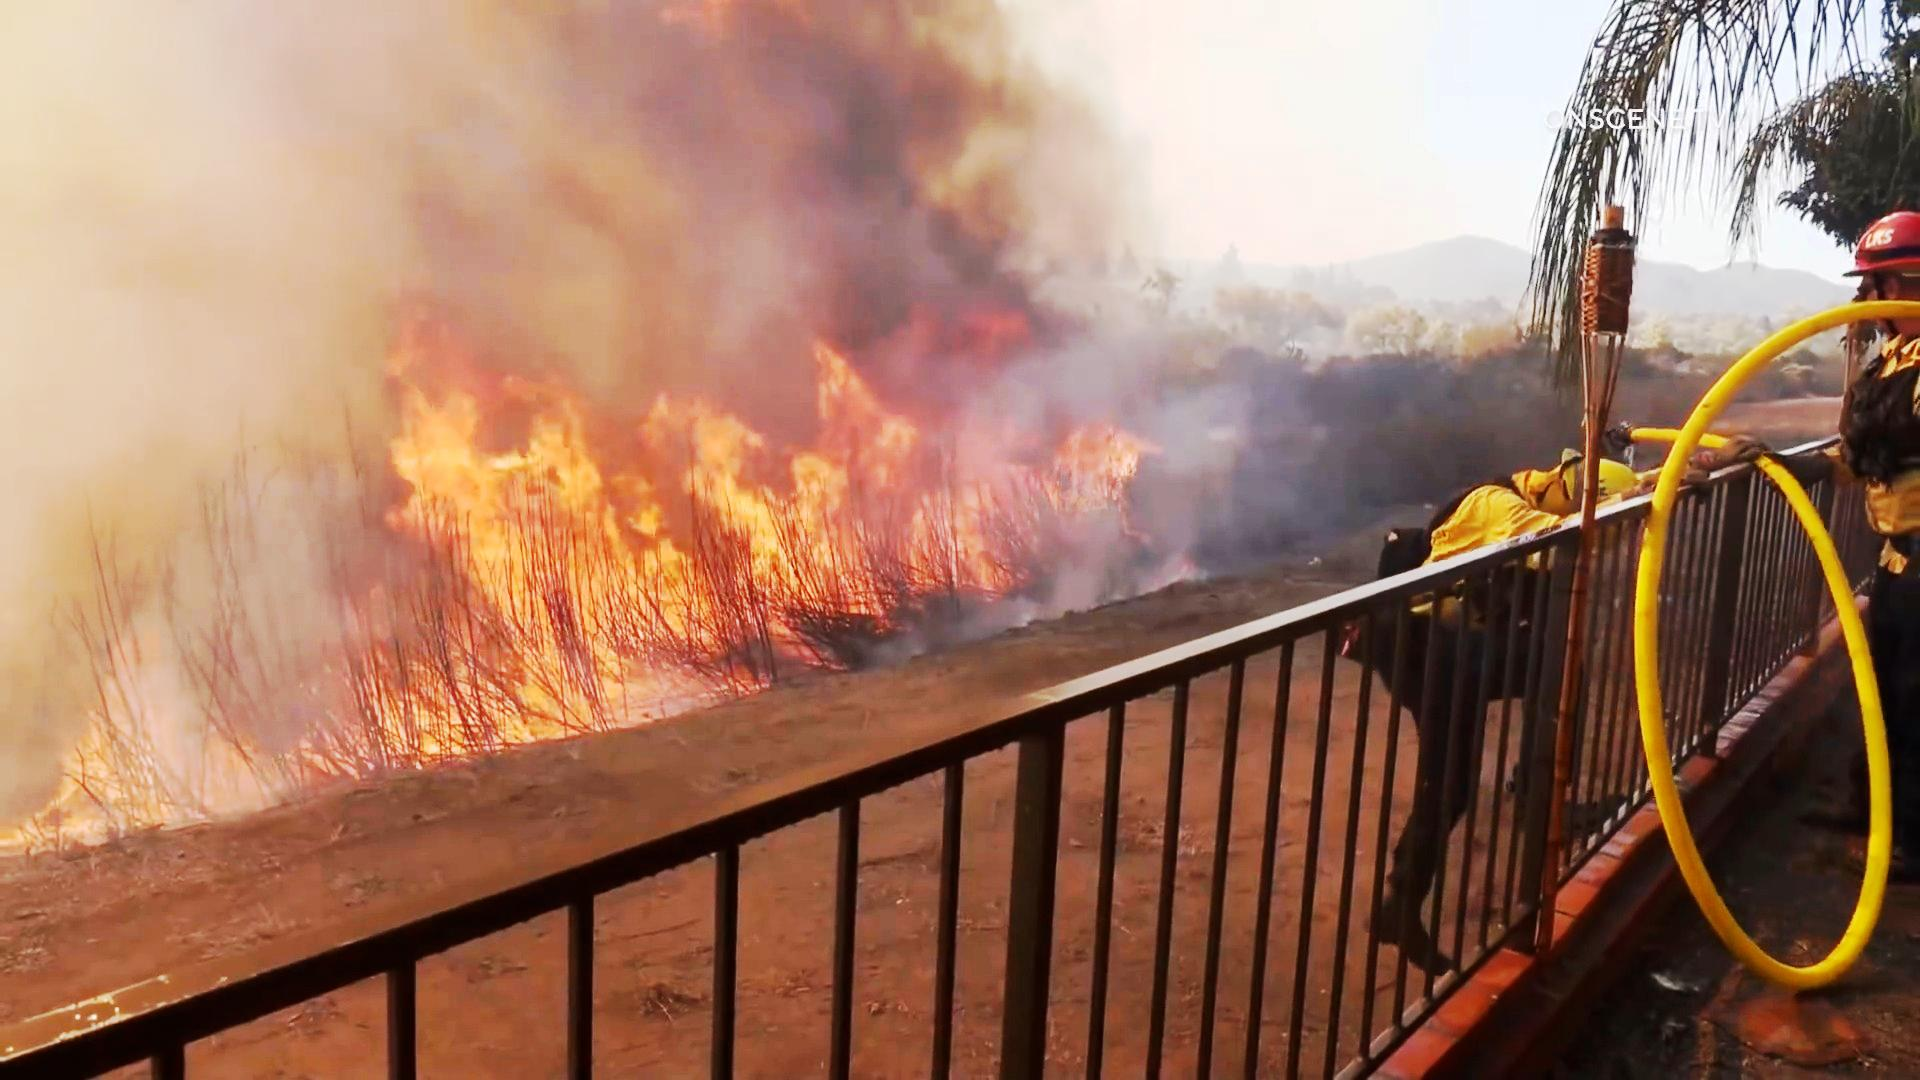fire: (385, 334, 702, 707), (742, 320, 1055, 599), (8, 621, 260, 843)
smoke: (0, 0, 1259, 281), (5, 0, 365, 563)
